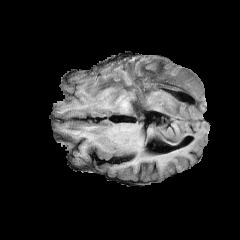glioma: (93, 58, 204, 119)
